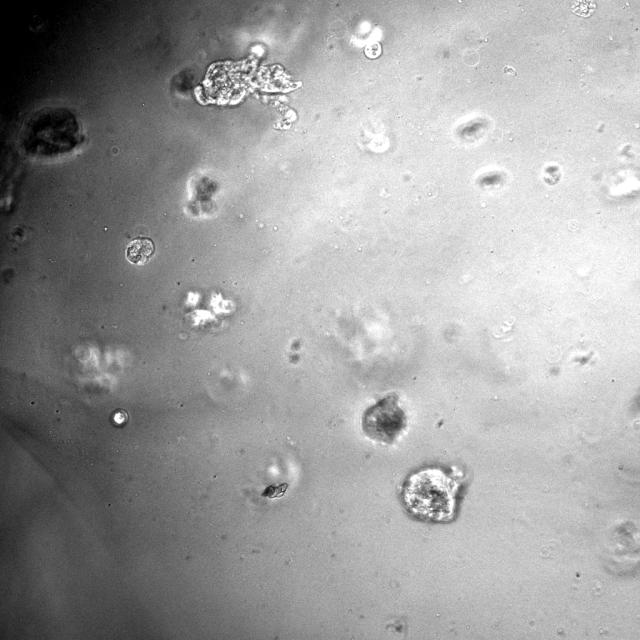organoid: (193, 43, 302, 130), (400, 465, 466, 522), (21, 107, 84, 157), (361, 391, 406, 445), (184, 290, 236, 330), (184, 172, 218, 219), (126, 237, 154, 266), (261, 483, 288, 498), (109, 408, 128, 427), (363, 41, 381, 59)
